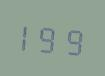nine: (63, 20, 84, 58), (41, 19, 62, 56)
one: (18, 17, 39, 54)
